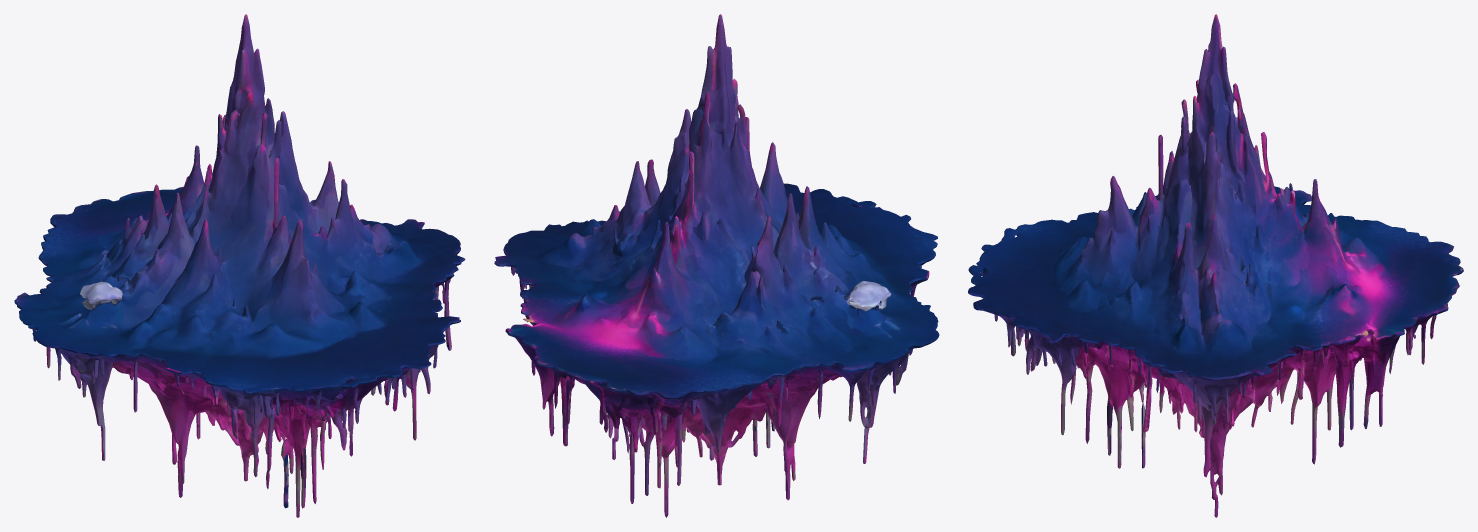
The model's file is outer-shoal-east-generated-2026-05-17T21-05-06-397Z.high.glb.
3 views of the same model, side by side, from view 1: azimuth 30°, elevation 25°; view 2: azimuth 150°, elevation 25°; view 3: azimuth 270°, elevation 25° (orthographic). The views are drawn at different scales.
Visible parts, largest first — view 1: temp_mesh.ply; view 2: temp_mesh.ply; view 3: temp_mesh.ply.
Boxes of the visible parts, box(x1,y1,x2,y2) form: temp_mesh.ply: box(14, 14, 465, 517); temp_mesh.ply: box(494, 14, 939, 517); temp_mesh.ply: box(968, 14, 1463, 517).
Size of the model in its own units: 1.85 by 1.98 by 1.96.
1 material, 1 textured.
